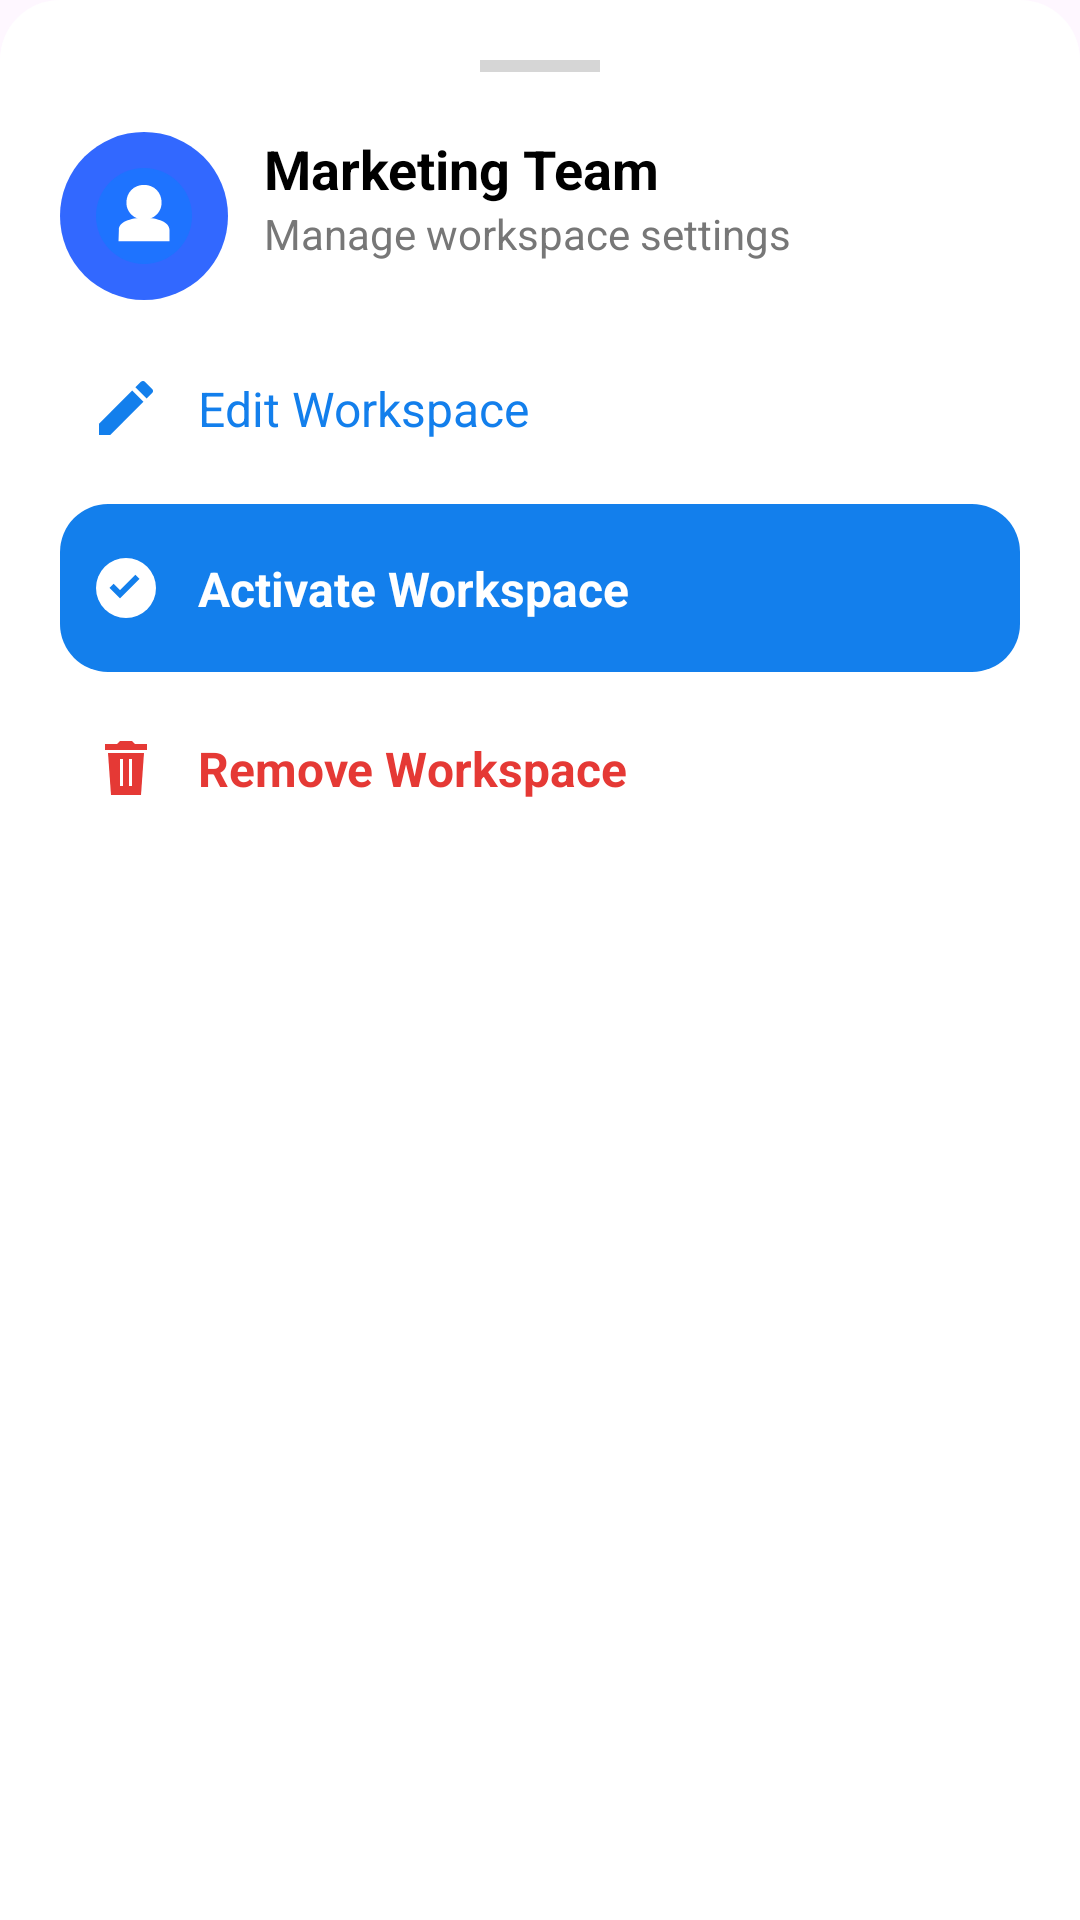

Screen size 1080w x 1920h. Icon name, then its box in pixels as (x1, y1, x2, y2):
user profile: (60, 132, 228, 300)
